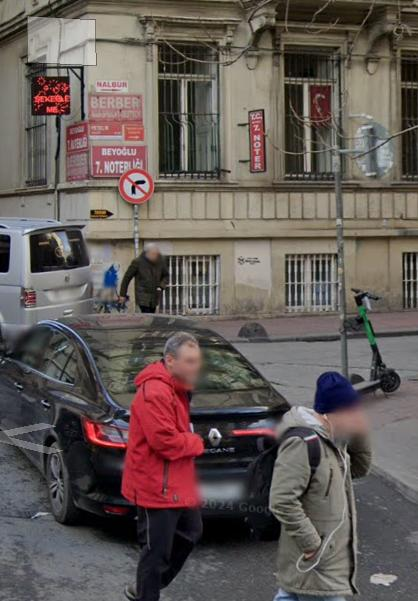rightturnsareforbidden: (119, 170, 151, 203)
